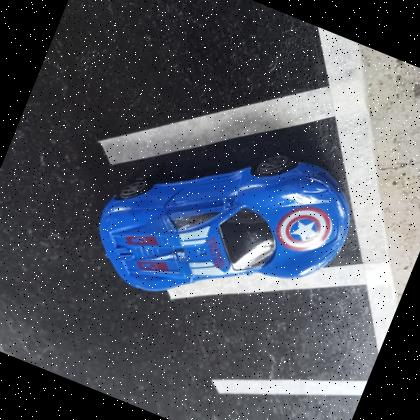Car: (98, 151, 353, 292)
